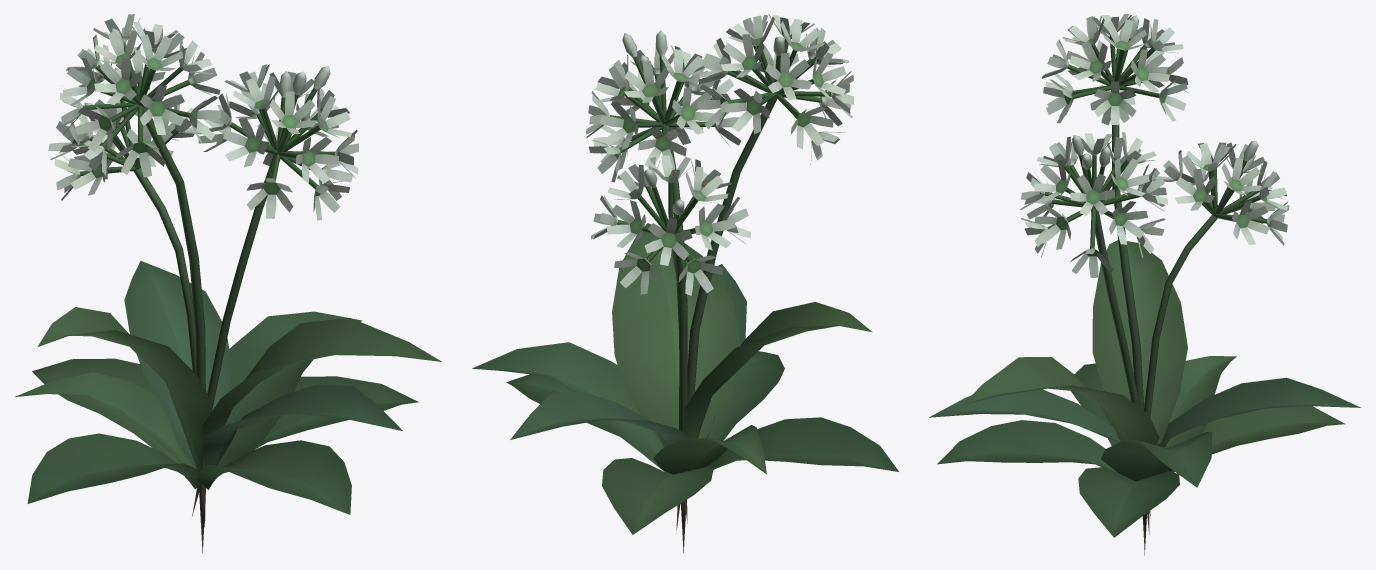
File: plants-flowers-wild-garlic_v1.glb
3 renders of one model, left to right at view 1: azimuth 30°, elevation 25°; view 2: azimuth 150°, elevation 25°; view 3: azimuth 270°, elevation 25°, orthographic. The views are drawn at different scales.
Visible parts, largest first — view 1: Wild Garlic_v1; view 2: Wild Garlic_v1; view 3: Wild Garlic_v1.
Part boxes in pixels (bbox=[...]): Wild Garlic_v1: bbox=[15, 14, 441, 552]; Wild Garlic_v1: bbox=[472, 14, 898, 552]; Wild Garlic_v1: bbox=[929, 14, 1360, 555].
Bounding box in the file's own units: 0.2991 × 0.4 × 0.3129.
